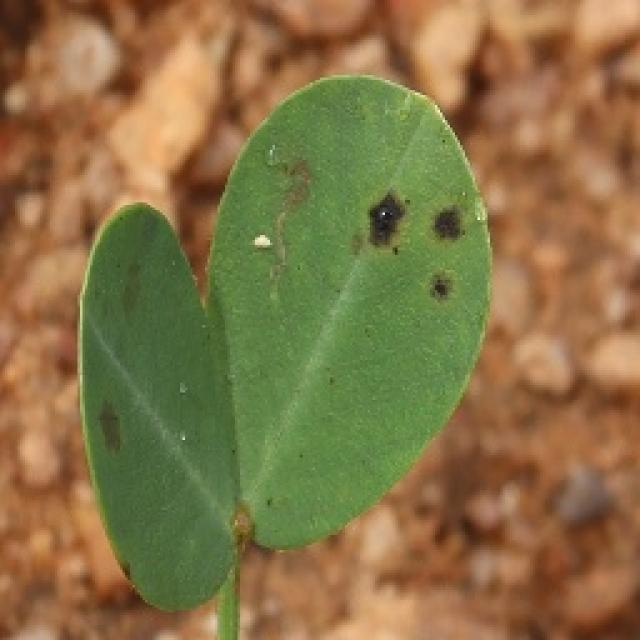Yellowish: (193, 108, 339, 292), (329, 150, 480, 325), (52, 266, 158, 455)
